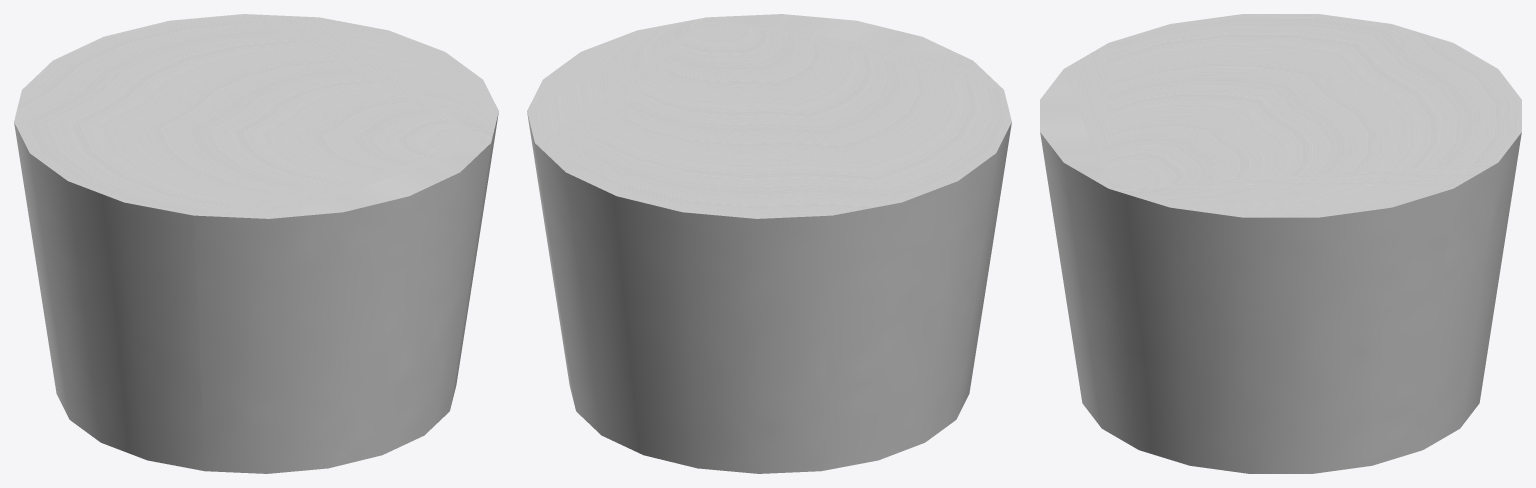
Rendered from SM_锥形瓶塞.fbx.
3 views of the same model, side by side, from view 1: azimuth 30°, elevation 25°; view 2: azimuth 150°, elevation 25°; view 3: azimuth 270°, elevation 25° (orthographic).
Parts seen in each view (by area): view 1: SM_锥形瓶塞; view 2: SM_锥形瓶塞; view 3: SM_锥形瓶塞.
Part boxes in pixels (x1,y1,x2,y2): SM_锥形瓶塞: (14, 14, 498, 473); SM_锥形瓶塞: (527, 14, 1011, 473); SM_锥形瓶塞: (1040, 14, 1521, 473).
Size of the model in its own units: 0.0447 by 0.0281 by 0.0447.
